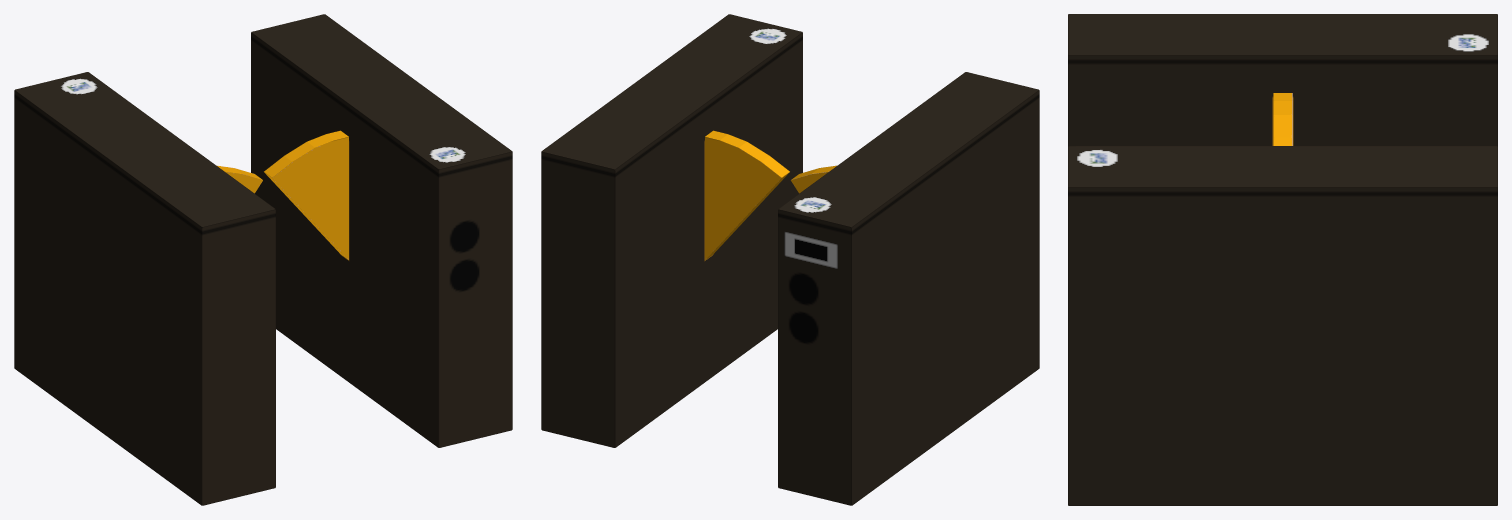
The model's file is dc_metro_fare_gate_3_exit_closed.obj.
3 renders of one model, left to right at view 1: azimuth 30°, elevation 25°; view 2: azimuth 150°, elevation 25°; view 3: azimuth 270°, elevation 25°, orthographic. The views are drawn at different scales.
Visible parts, largest first — view 1: cube; view 2: cube; view 3: cube.
Part boxes in pixels (x1,y1,x2,y2): cube: (14, 14, 512, 505); cube: (541, 14, 1039, 505); cube: (1068, 14, 1497, 505).
Size of the model in its own units: 1.31 by 1.12 by 1.38.
1 material, 1 textured.
